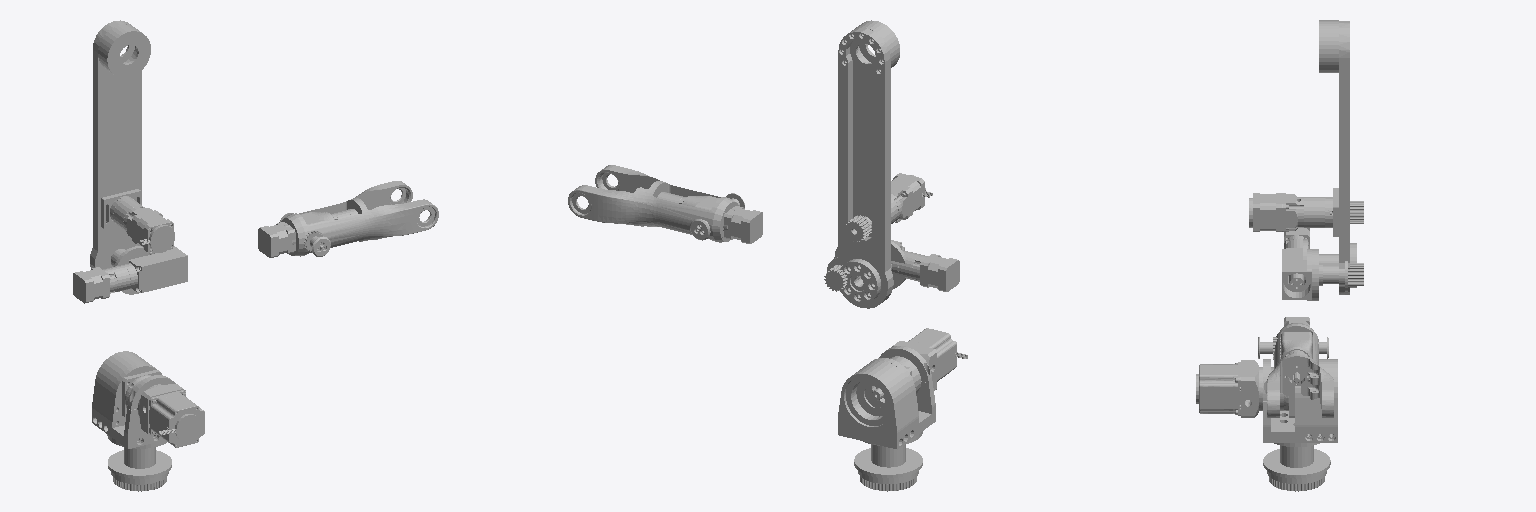
robot.urdf — RoboticArmv2:
<?xml version="1.0" encoding="utf-8"?>
<!-- This URDF was automatically created by SolidWorks to URDF Exporter! Originally created by [author] ([email redacted]) 
     Commit Version: 1.6.0-4-g7f85cfe  Build Version: 1.6.7995.38578
     For more information, please see http://wiki.ros.org/sw_urdf_exporter -->
<robot
  name="RoboticArmv2">
  <link
    name="base_link">
    <inertial>
      <origin
        xyz="-0.038799 5.6771E-08 0.039037"
        rpy="0 0 0" />
      <mass
        value="4.037" />
      <inertia
        ixx="0.0047485"
        ixy="6.9936E-08"
        ixz="2.5452E-06"
        iyy="0.01214"
        iyz="-4.4737E-10"
        izz="0.015979" />
    </inertial>
    <visual>
      <origin
        xyz="0 0 0"
        rpy="0 0 0" />
      <geometry>
        <mesh
          filename="package://RoboticArmv2/meshes/base_link.STL" />
      </geometry>
      <material
        name="">
        <color
          rgba="0.75294 0.75294 0.75294 1" />
      </material>
    </visual>
    <collision>
      <origin
        xyz="0 0 0"
        rpy="0 0 0" />
      <geometry>
        <mesh
          filename="package://RoboticArmv2/meshes/base_link.STL" />
      </geometry>
    </collision>
  </link>
  <link
    name="Link1">
    <inertial>
      <origin
        xyz="4.7367E-05 0.10068 0.020948"
        rpy="0 0 0" />
      <mass
        value="0.97007" />
      <inertia
        ixx="0.0010278"
        ixy="-3.2684E-07"
        ixz="-5.2705E-07"
        iyy="0.001187"
        iyz="2.9768E-06"
        izz="0.00070562" />
    </inertial>
    <visual>
      <origin
        xyz="0 0 0"
        rpy="0 0 0" />
      <geometry>
        <mesh
          filename="package://RoboticArmv2/meshes/Link1.STL" />
      </geometry>
      <material
        name="">
        <color
          rgba="0.75294 0.75294 0.75294 1" />
      </material>
    </visual>
    <collision>
      <origin
        xyz="0 0 0"
        rpy="0 0 0" />
      <geometry>
        <mesh
          filename="package://RoboticArmv2/meshes/Link1.STL" />
      </geometry>
    </collision>
  </link>
  <joint
    name="J1"
    type="revolute">
    <origin
      xyz="0 0 0.0059964"
      rpy="1.5708 0 0" />
    <parent
      link="base_link" />
    <child
      link="Link1" />
    <axis
      xyz="0 -1 0" />
    <limit
      lower="-3.14"
      upper="3.14"
      effort="10"
      velocity="10" />
  </joint>
  <link
    name="Link2">
    <inertial>
      <origin
        xyz="-1.46417876076469E-06 0.117729185705366 -0.0378668860722142"
        rpy="0 0 0" />
      <mass
        value="0.577415758791343" />
      <inertia
        ixx="0.0036047406071256"
        ixy="6.4776030540196E-08"
        ixz="1.20114307201048E-07"
        iyy="0.000412136925722125"
        iyz="-1.52201263463148E-05"
        izz="0.00360983067595921" />
    </inertial>
    <visual>
      <origin
        xyz="0 0 0"
        rpy="0 0 0" />
      <geometry>
        <mesh
          filename="package://RoboticArmv2/meshes/Link2.STL" />
      </geometry>
      <material
        name="">
        <color
          rgba="0.752941176470588 0.752941176470588 0.752941176470588 1" />
      </material>
    </visual>
    <collision>
      <origin
        xyz="0 0 0"
        rpy="0 0 0" />
      <geometry>
        <mesh
          filename="package://RoboticArmv2/meshes/Link2.STL" />
      </geometry>
    </collision>
  </link>
  <joint
    name="J2"
    type="revolute">
    <origin
      xyz="0 0.134 0"
      rpy="0 0 0" />
    <parent
      link="Link1" />
    <child
      link="Link2" />
    <axis
      xyz="0 0 -1" />
    <limit
      lower="-1.57"
      upper="1.57"
      effort="0"
      velocity="0" />
  </joint>
  <link
    name="Link3">
    <inertial>
      <origin
        xyz="-0.0328882111255075 8.45678153449381E-07 -0.0129958354849986"
        rpy="0 0 0" />
      <mass
        value="0.251663957012598" />
      <inertia
        ixx="6.72067273429369E-05"
        ixy="4.83904268931055E-09"
        ixz="-2.18784718458254E-08"
        iyy="0.000125285505512965"
        iyz="3.49876261972673E-15"
        izz="0.000132327236956115" />
    </inertial>
    <visual>
      <origin
        xyz="0 0 0"
        rpy="0 0 0" />
      <geometry>
        <mesh
          filename="package://RoboticArmv2/meshes/Link3.STL" />
      </geometry>
      <material
        name="">
        <color
          rgba="0.752941176470588 0.752941176470588 0.752941176470588 1" />
      </material>
    </visual>
    <collision>
      <origin
        xyz="0 0 0"
        rpy="0 0 0" />
      <geometry>
        <mesh
          filename="package://RoboticArmv2/meshes/Link3.STL" />
      </geometry>
    </collision>
  </link>
  <joint
    name="J3"
    type="revolute">
    <origin
      xyz="0 0.322 0"
      rpy="0 0 0" />
    <parent
      link="Link2" />
    <child
      link="Link3" />
    <axis
      xyz="0 0 -1" />
    <limit
      lower="0"
      upper="3.14"
      effort="10"
      velocity="10" />
  </joint>
  <link
    name="Link4">
    <inertial>
      <origin
        xyz="0.099774322521478 -0.000172379735017603 0.00118588583890608"
        rpy="0 0 0" />
      <mass
        value="0.356013835274962" />
      <inertia
        ixx="0.000270166646517537"
        ixy="-2.8024785401758E-07"
        ixz="-2.10227432082948E-05"
        iyy="0.00116383385329662"
        iyz="-8.06758147658775E-08"
        izz="0.000994142094397537" />
    </inertial>
    <visual>
      <origin
        xyz="0 0 0"
        rpy="0 0 0" />
      <geometry>
        <mesh
          filename="package://RoboticArmv2/meshes/Link4.STL" />
      </geometry>
      <material
        name="">
        <color
          rgba="0.752941176470588 0.752941176470588 0.752941176470588 1" />
      </material>
    </visual>
    <collision>
      <origin
        xyz="0 0 0"
        rpy="0 0 0" />
      <geometry>
        <mesh
          filename="package://RoboticArmv2/meshes/Link4.STL" />
      </geometry>
    </collision>
  </link>
  <joint
    name="J4"
    type="revolute">
    <origin
      xyz="0.03 0 0"
      rpy="0 0 0" />
    <parent
      link="Link3" />
    <child
      link="Link4" />
    <axis
      xyz="1 0 0" />
    <limit
      lower="-3.14"
      upper="3.14"
      effort="10"
      velocity="10" />
  </joint>
  <link
    name="Link5">
    <inertial>
      <origin
        xyz="-0.00745918037903059 1.44166386780165E-05 -0.00833926520904369"
        rpy="0 0 0" />
      <mass
        value="0.175482504091363" />
      <inertia
        ixx="5.10545535580843E-05"
        ixy="-5.97452165278952E-08"
        ixz="1.44581078477868E-06"
        iyy="0.000107503817667908"
        iyz="5.76444930838975E-09"
        izz="0.000100856356891325" />
    </inertial>
    <visual>
      <origin
        xyz="0 0 0"
        rpy="0 0 0" />
      <geometry>
        <mesh
          filename="package://RoboticArmv2/meshes/Link5.STL" />
      </geometry>
      <material
        name="">
        <color
          rgba="0.752941176470588 0.752941176470588 0.752941176470588 1" />
      </material>
    </visual>
    <collision>
      <origin
        xyz="0 0 0"
        rpy="0 0 0" />
      <geometry>
        <mesh
          filename="package://RoboticArmv2/meshes/Link5.STL" />
      </geometry>
    </collision>
  </link>
  <joint
    name="J5"
    type="revolute">
    <origin
      xyz="0.20275 0 0"
      rpy="3.1416 0 0" />
    <parent
      link="Link4" />
    <child
      link="Link5" />
    <axis
      xyz="0 0 -1" />
    <limit
      lower="-1.57"
      upper="1.57"
      effort="10"
      velocity="10" />
  </joint>
  <link
    name="Link6">
    <inertial>
      <origin
        xyz="0.00833988976417116 0.000113774503086972 -1.32769045757541E-10"
        rpy="0 0 0" />
      <mass
        value="0.0135263682638669" />
      <inertia
        ixx="2.02217071919662E-06"
        ixy="5.87479646435333E-09"
        ixz="-8.97698504642466E-15"
        iyy="1.3204524747585E-06"
        iyz="-1.52963229446115E-14"
        izz="1.3036592664547E-06" />
    </inertial>
    <visual>
      <origin
        xyz="0 0 0"
        rpy="0 0 0" />
      <geometry>
        <mesh
          filename="package://RoboticArmv2/meshes/Link6.STL" />
      </geometry>
      <material
        name="">
        <color
          rgba="0.752941176470588 0.752941176470588 0.752941176470588 1" />
      </material>
    </visual>
    <collision>
      <origin
        xyz="0 0 0"
        rpy="0 0 0" />
      <geometry>
        <mesh
          filename="package://RoboticArmv2/meshes/Link6.STL" />
      </geometry>
    </collision>
  </link>
  <joint
    name="J6"
    type="revolute">
    <origin
      xyz="0.02825 0 -0.01"
      rpy="-3.1416 0 0" />
    <parent
      link="Link5" />
    <child
      link="Link6" />
    <axis
      xyz="1 0 0" />
    <limit
      lower="-3.14"
      upper="3.14"
      effort="10"
      velocity="10" />
  </joint>
</robot>

--- What the picture shows (computed from the rendered views, not written in the file) ---
Views: 3 orthographic renders of the robot side by side, from view 1: azimuth 30°, elevation 25°; view 2: azimuth 150°, elevation 25°; view 3: azimuth 270°, elevation 25°.
Model RoboticArmv2 with 7 links and 6 joints (6 revolute), rooted at base_link, posed all joints at 0.
Links seen in each view (by area): view 1: Link3, Link2, Link5, Link4, Link6; view 2: Link3, Link2, Link5, Link4, Link6; view 3: Link2, Link3, Link5, Link4, Link6.
Boxes of the visible links, x1=… form: Link3: x1=90, y1=20, x2=174, y2=294; Link2: x1=92, y1=351, x2=204, y2=491; Link5: x1=281, y1=181, x2=438, y2=256; Link4: x1=73, y1=245, x2=187, y2=303; Link6: x1=258, y1=212, x2=334, y2=257; Link3: x1=837, y1=20, x2=932, y2=308; Link2: x1=838, y1=328, x2=967, y2=491; Link5: x1=568, y1=165, x2=738, y2=242; Link4: x1=824, y1=240, x2=959, y2=291; Link6: x1=682, y1=193, x2=762, y2=243; Link2: x1=1196, y1=359, x2=1337, y2=491; Link3: x1=1249, y1=20, x2=1363, y2=294; Link5: x1=1267, y1=323, x2=1333, y2=417; Link4: x1=1282, y1=228, x2=1363, y2=300; Link6: x1=1258, y1=317, x2=1328, y2=359.
Bounding box of the posed robot: 0.5525 × 0.2242 × 0.673 m (x, y, z).
5 mesh visuals loaded from 7 distinct referenced files (5 binary STL); not drawn: 2 (reference not matched to a file when rendering).